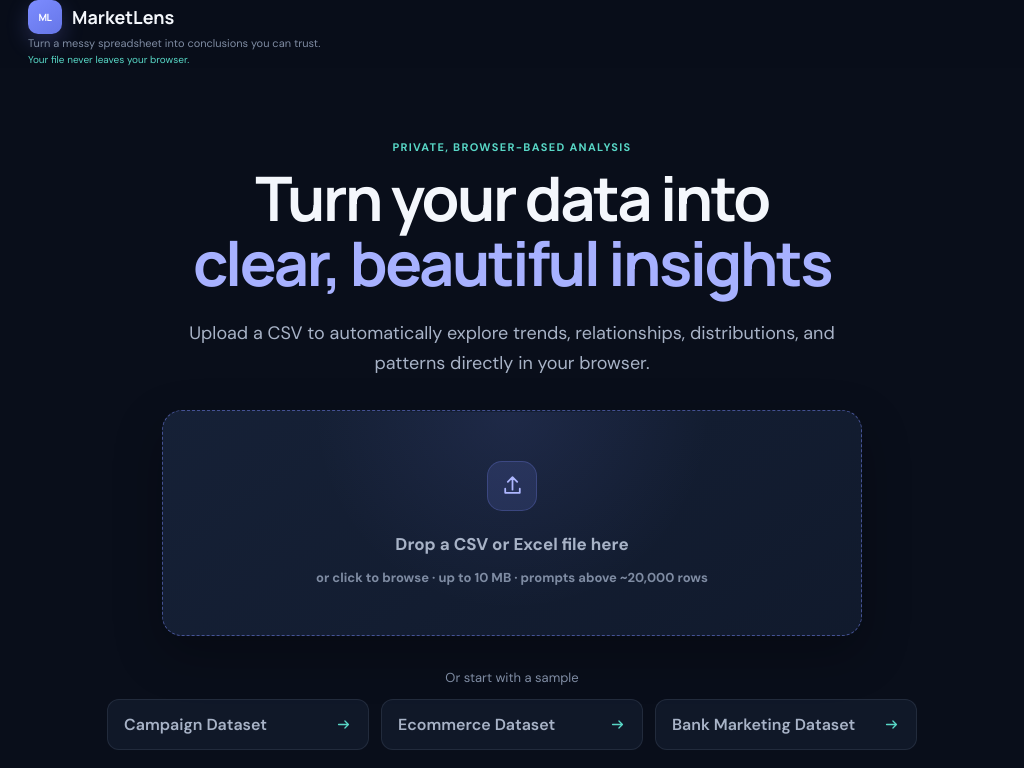
Scenario: starts non-dated datasets with two numeric scatter axes
Step 1. Click the button "Bank Marketing Dataset" → (786, 725), box [655,699,917,750]
(page scrolled)
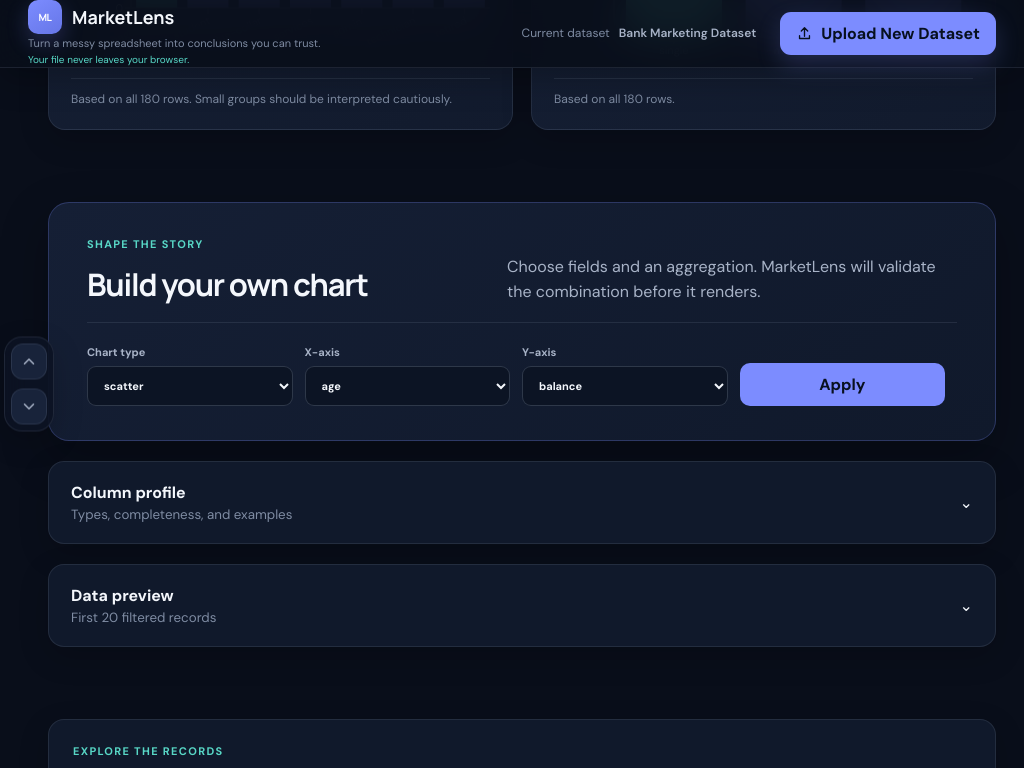
Now the dropdown labelled "Chart type" shows "scatter", box [87,366,292,406]
Now the dropdown labelled "X-axis" shows "age", box [304,366,510,406]
Now the dropdown labelled "Y-axis" shows "balance", box [522,366,728,406]
